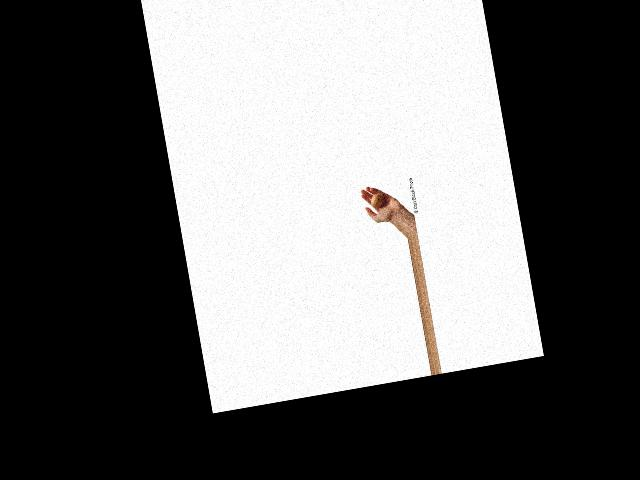egg: (369, 191, 385, 207)
